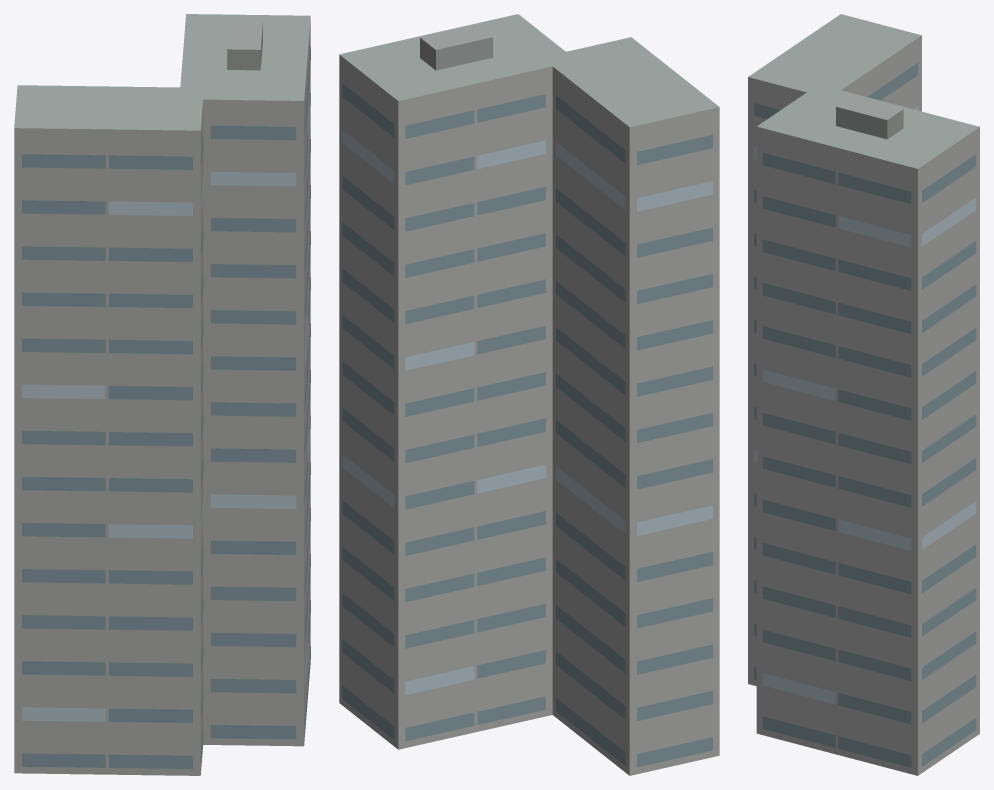
Rendered from fallback-jamsil-parkrio-203.glb.
The picture shows the model from 3 angles, left to right: view 1: azimuth 30°, elevation 25°; view 2: azimuth 150°, elevation 25°; view 3: azimuth 270°, elevation 25°; orthographic projection. The views are drawn at different scales.
Parts seen in each view (by area): view 1: fallback-jamsil-parkrio-203; view 2: fallback-jamsil-parkrio-203; view 3: fallback-jamsil-parkrio-203.
Part boxes in pixels (x1=…): fallback-jamsil-parkrio-203: x1=14, y1=14, x2=310, y2=775; fallback-jamsil-parkrio-203: x1=339, y1=14, x2=719, y2=775; fallback-jamsil-parkrio-203: x1=748, y1=14, x2=979, y2=775.
Size of the model in its own units: 41.39 by 78 by 26.17.
